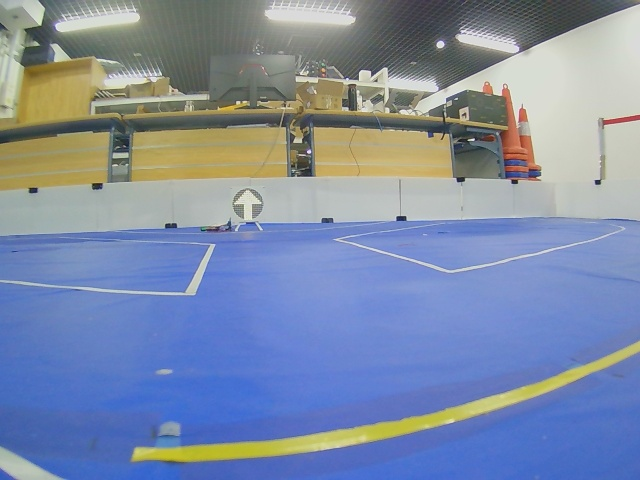straight_yellow: (232, 188, 263, 221)
